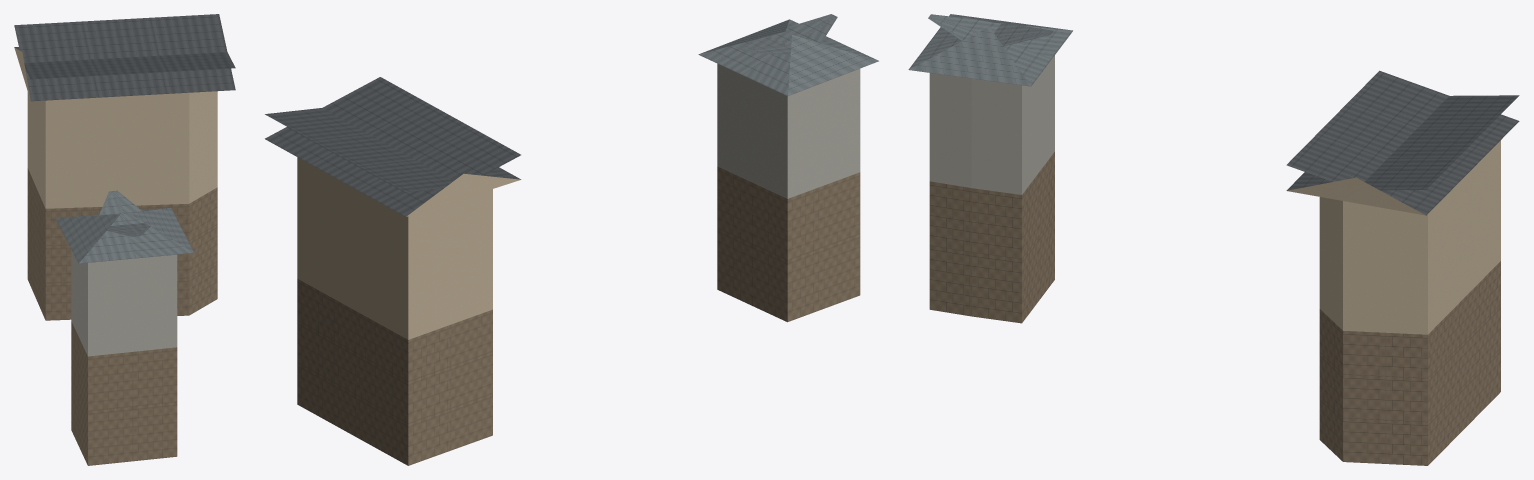
The model's file is bld_c41_-48_459.gltf.
The picture shows the model from 3 angles, left to right: view 1: azimuth 30°, elevation 25°; view 2: azimuth 150°, elevation 25°; view 3: azimuth 270°, elevation 25°; orthographic projection. The views are drawn at different scales.
Parts seen in each view (by area): view 1: bld_c41_-48_459; view 2: bld_c41_-48_459; view 3: bld_c41_-48_459.
Part boxes in pixels (left/top/right/bottom): bld_c41_-48_459: left=14, top=14, right=235, bottom=465; bld_c41_-48_459: left=265, top=14, right=878, bottom=465; bld_c41_-48_459: left=908, top=14, right=1519, bottom=465.
Bounding box in the file's own units: 16.38 × 11.6 × 21.54.
6 materials, 6 textured.
